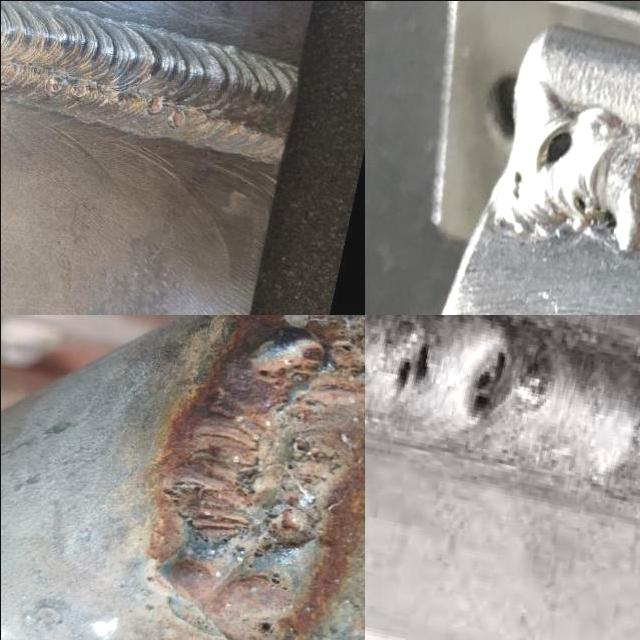defect: (168, 480, 236, 551), (459, 338, 514, 424), (248, 505, 320, 559), (254, 344, 324, 388), (393, 333, 437, 401), (531, 121, 578, 177), (568, 187, 619, 237), (224, 469, 260, 512), (287, 438, 330, 466), (263, 571, 290, 595), (252, 617, 276, 638), (45, 74, 63, 99), (69, 76, 86, 102), (145, 94, 163, 116), (169, 106, 186, 128), (333, 339, 356, 355), (114, 95, 123, 107), (357, 360, 364, 370)
